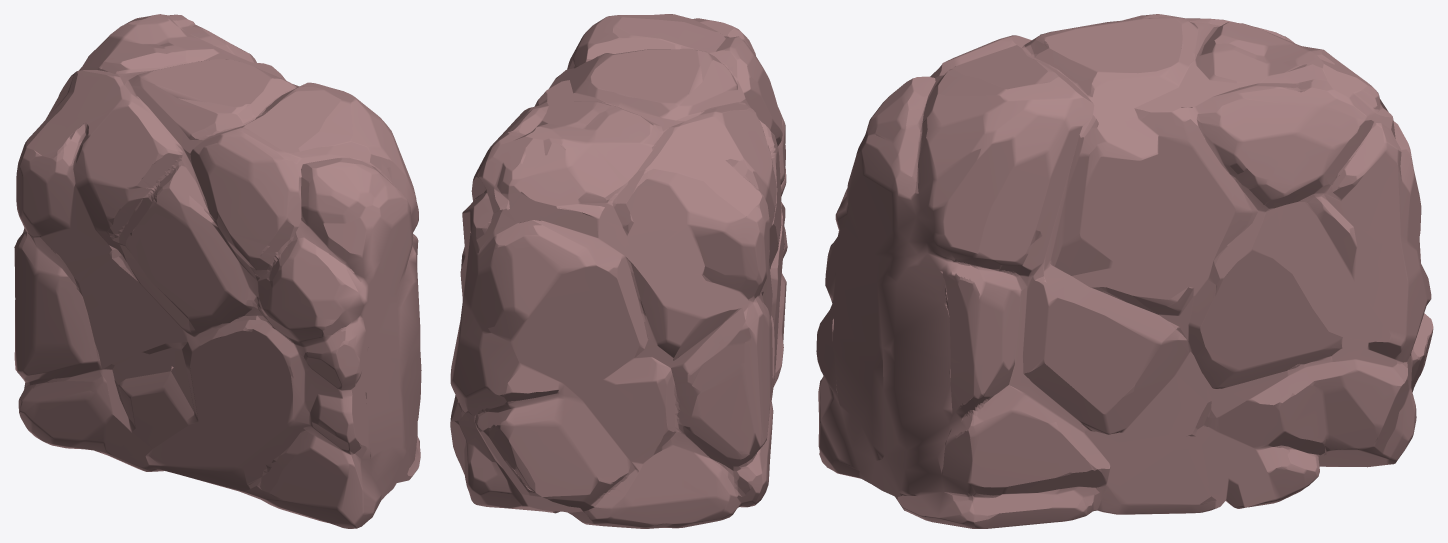
File: sea_ext.fbx
3 views of the same model, side by side, from view 1: azimuth 30°, elevation 25°; view 2: azimuth 150°, elevation 25°; view 3: azimuth 270°, elevation 25° (orthographic). The views are drawn at different scales.
Parts seen in each view (by area): view 1: PolyShape_LOD0; view 2: PolyShape_LOD0; view 3: PolyShape_LOD0.
Part boxes in pixels (x1,y1,x2,y2): PolyShape_LOD0: [14, 14, 421, 528]; PolyShape_LOD0: [450, 14, 787, 528]; PolyShape_LOD0: [816, 14, 1433, 528].
Size of what is drawn, in the model's own units: 2365 by 2802 by 3755.
